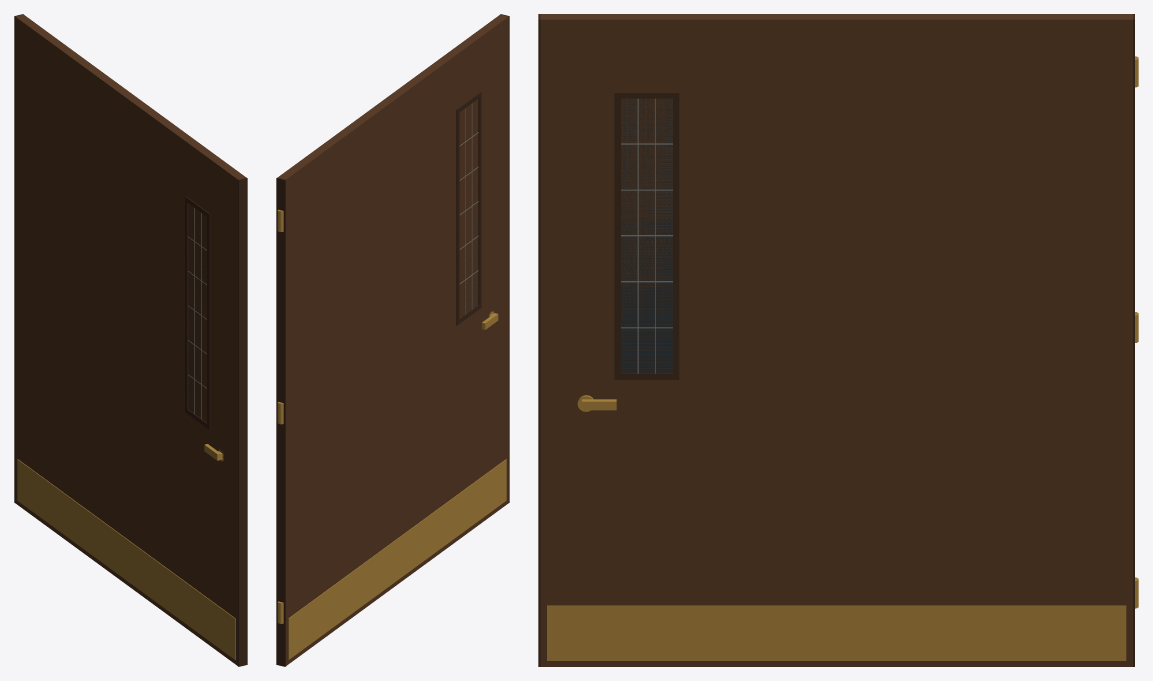
File: SM_80s_RoomDoor_275.glb
The picture shows the model from 3 angles, left to right: view 1: azimuth 30°, elevation 25°; view 2: azimuth 150°, elevation 25°; view 3: azimuth 270°, elevation 25°; orthographic projection. The views are drawn at different scales.
Visible parts, largest first — view 1: SM_80s_RoomDoor_275; view 2: SM_80s_RoomDoor_275; view 3: SM_80s_RoomDoor_275.
Part boxes in pixels (box(x1,y1,x2,y2)): SM_80s_RoomDoor_275: box(14, 14, 247, 666); SM_80s_RoomDoor_275: box(276, 14, 509, 666); SM_80s_RoomDoor_275: box(538, 14, 1138, 666).
Size of the model in its own units: 0.134 by 3.29 by 2.77.
